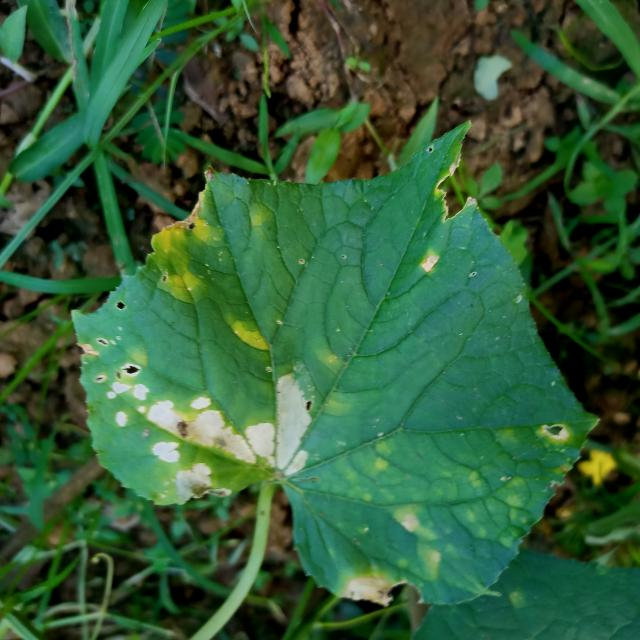disease_cucumber: (82, 338, 324, 511), (150, 202, 219, 304), (386, 503, 472, 582), (220, 312, 275, 360)
